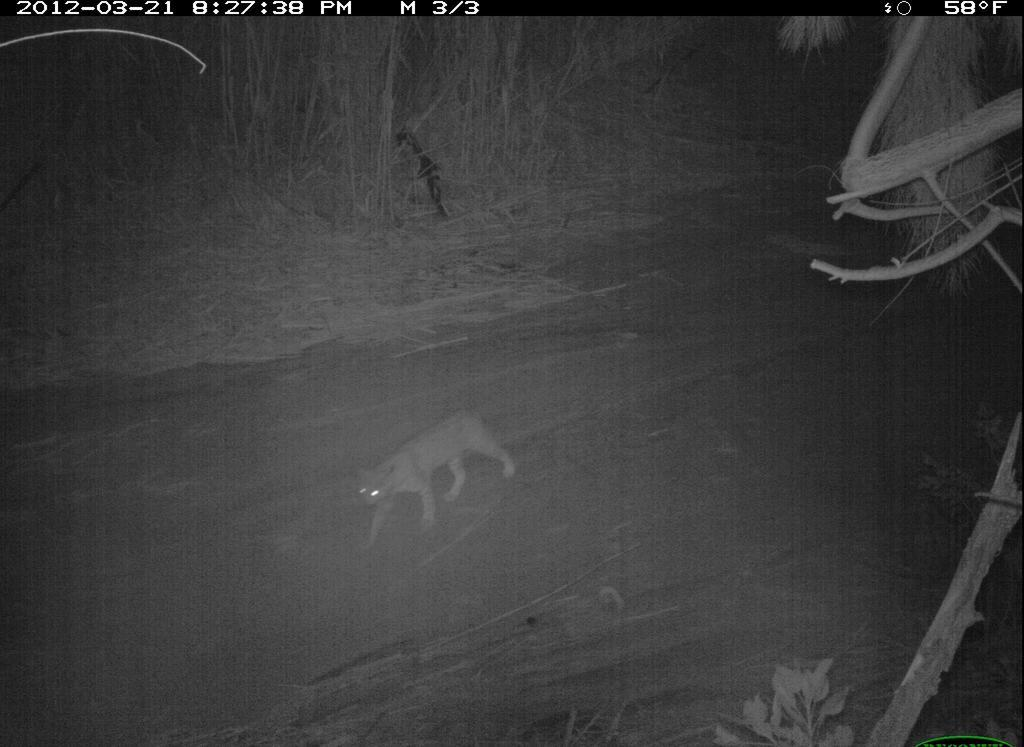bobcat: (347, 406, 519, 550)
